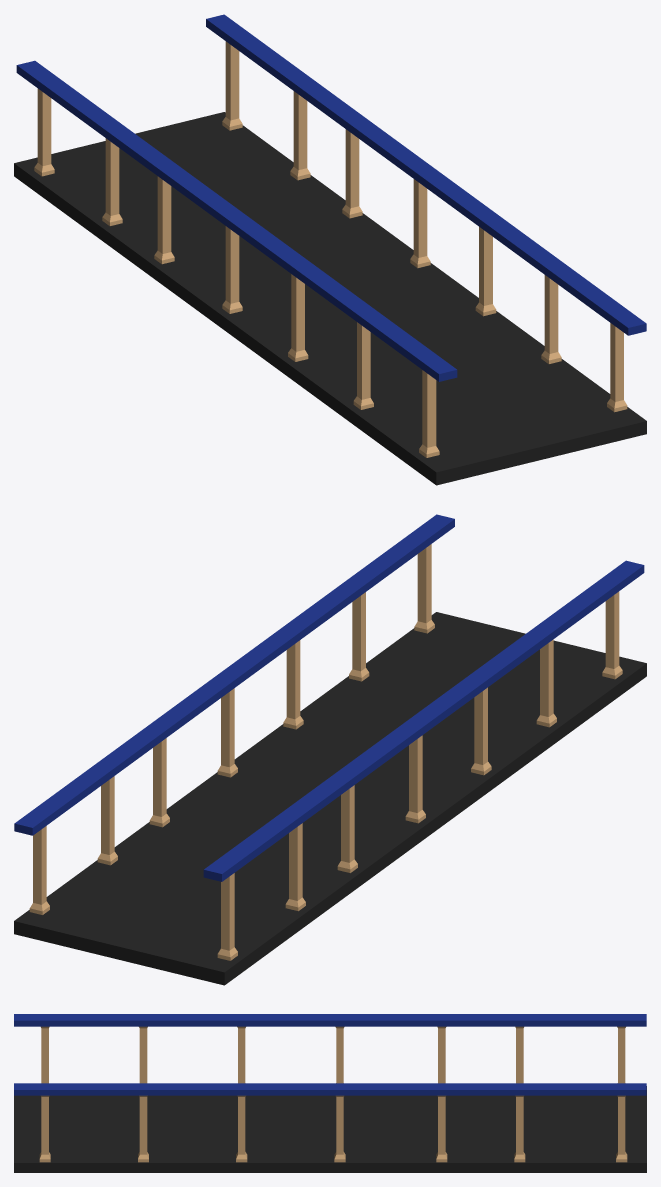
Rendered from wooden_bridge.fbx.
3 renders of one model, top to bottom at view 1: azimuth 30°, elevation 25°; view 2: azimuth 150°, elevation 25°; view 3: azimuth 270°, elevation 25°, orthographic. The views are drawn at different scales.
Visible parts, largest first — view 1: Object001, Object005, Object003; view 2: Object001, Object005, Object003; view 3: Object001, Object005, Object003.
Part boxes in pixels (<box>): Object001: <box>14,112,646,485</box>; Object005: <box>16,14,646,381</box>; Object003: <box>34,41,627,457</box>; Object001: <box>14,612,646,985</box>; Object005: <box>14,514,644,881</box>; Object003: <box>29,544,622,960</box>; Object001: <box>14,1086,646,1172</box>; Object005: <box>14,1014,646,1095</box>; Object003: <box>39,1026,627,1162</box>.
Bounding box in the file's own units: 183 × 637 × 92.09.
